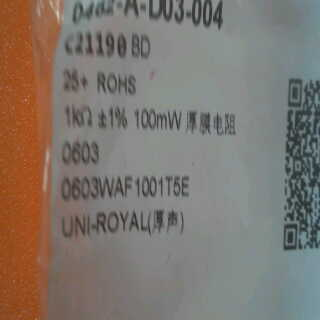1kR: (54, 104, 99, 133)
